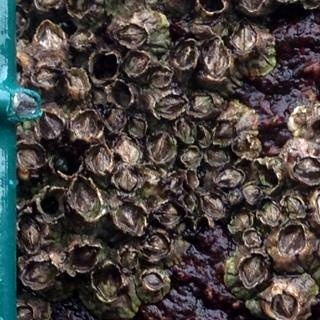Barnacle: (69, 178, 99, 219), (70, 109, 101, 145), (22, 257, 60, 286), (36, 22, 65, 59), (277, 224, 305, 259), (95, 263, 122, 298), (19, 214, 43, 253), (204, 38, 229, 75), (231, 20, 258, 54), (154, 94, 187, 119), (239, 254, 265, 285), (154, 204, 185, 230), (115, 23, 147, 48), (116, 199, 141, 230), (271, 291, 299, 318), (39, 112, 63, 142), (142, 234, 169, 260), (148, 132, 172, 161), (115, 166, 139, 194), (124, 51, 151, 75), (296, 156, 319, 184), (188, 91, 215, 114), (66, 67, 89, 94), (216, 166, 244, 188), (89, 146, 110, 175), (200, 194, 223, 220), (17, 143, 43, 166), (213, 117, 236, 143), (34, 64, 60, 87), (258, 199, 281, 224), (115, 140, 140, 163), (174, 42, 195, 69), (285, 194, 306, 217), (148, 65, 171, 86), (120, 247, 140, 271), (204, 147, 229, 165), (175, 117, 192, 142), (230, 212, 251, 232), (128, 115, 146, 138), (140, 271, 160, 291), (242, 182, 262, 202), (244, 229, 263, 250), (233, 135, 252, 156), (70, 27, 90, 46), (224, 189, 242, 209), (13, 303, 34, 319), (195, 123, 210, 144), (68, 0, 94, 12), (183, 148, 200, 166), (107, 115, 123, 132)
